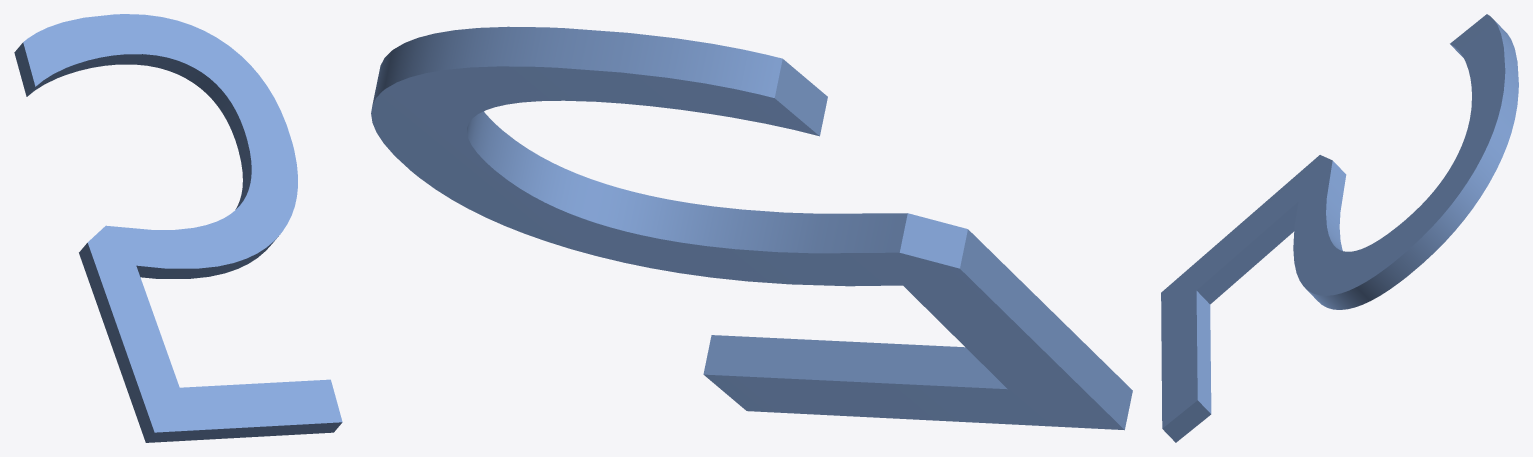
File: New_Number_5.gltf
3 views of the same model, side by side, from view 1: azimuth 30°, elevation 25°; view 2: azimuth 150°, elevation 25°; view 3: azimuth 270°, elevation 25° (orthographic). The views are drawn at different scales.
Parts seen in each view (by area): view 1: Part 410; view 2: Part 410; view 3: Part 410.
Part boxes in pixels (bbox=[...]): Part 410: bbox=[14, 14, 342, 442]; Part 410: bbox=[371, 26, 1132, 430]; Part 410: bbox=[1161, 14, 1518, 442].
Bounding box in the file's own units: 0.00358 × 0.00446 × 0.00415.
